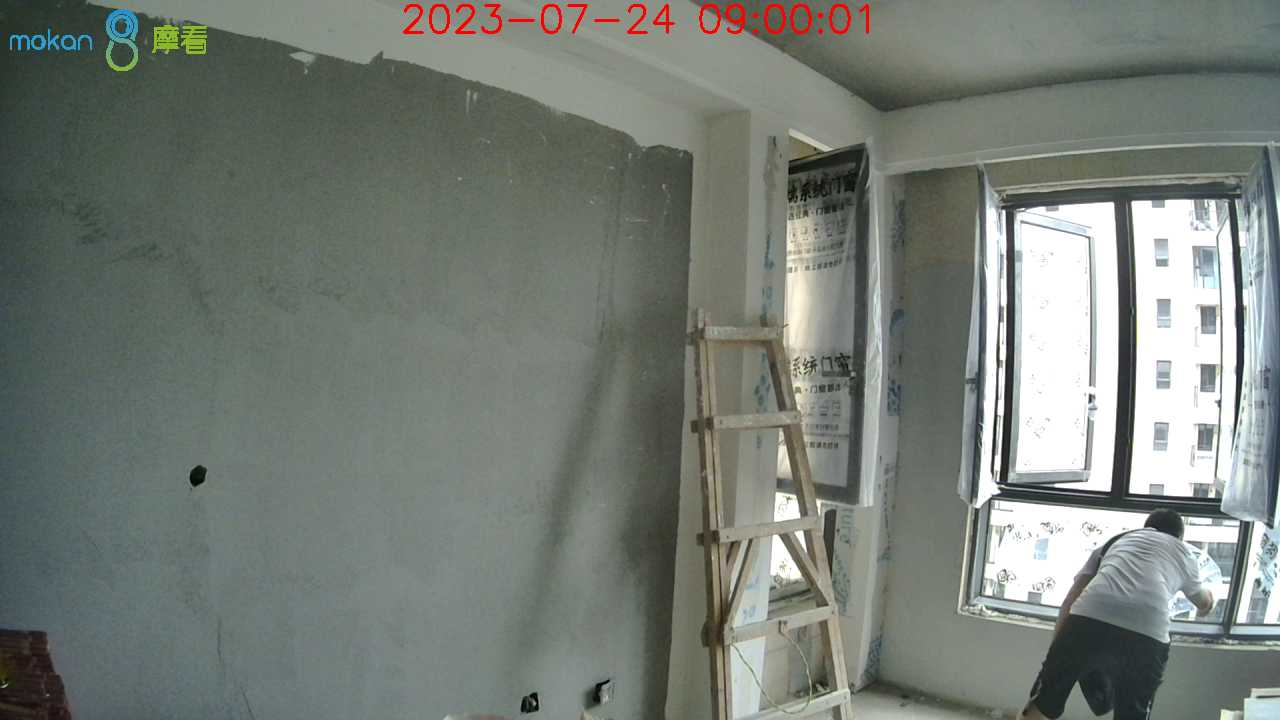people: (1021, 509, 1217, 720)
window: (990, 189, 1280, 630)
